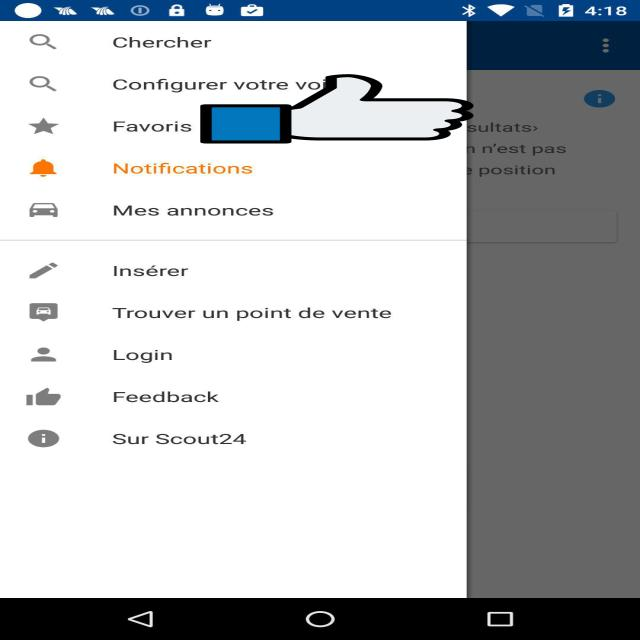privacy zuckering: (201, 73, 474, 145)
